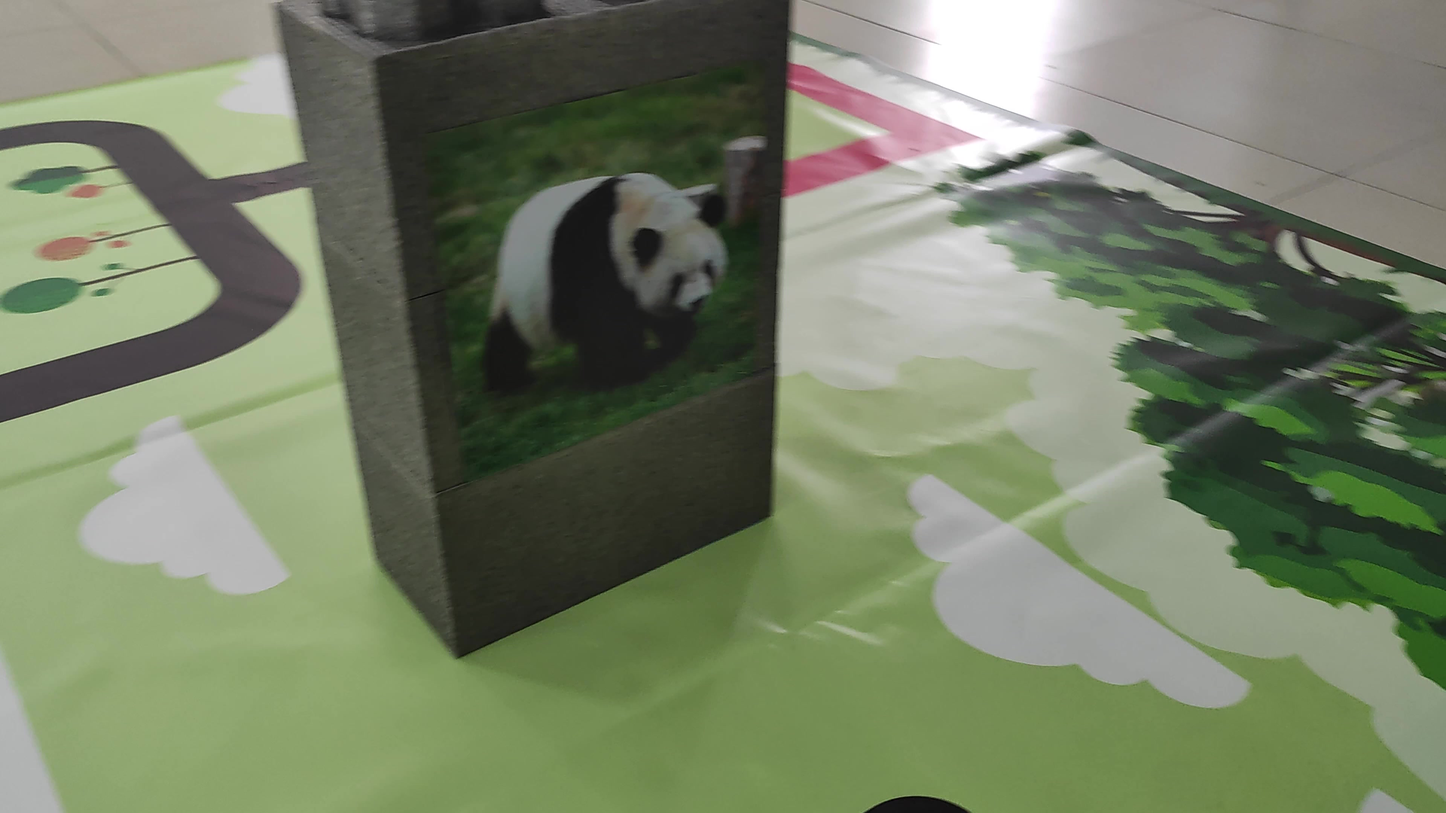panda: (461, 149, 752, 420)
